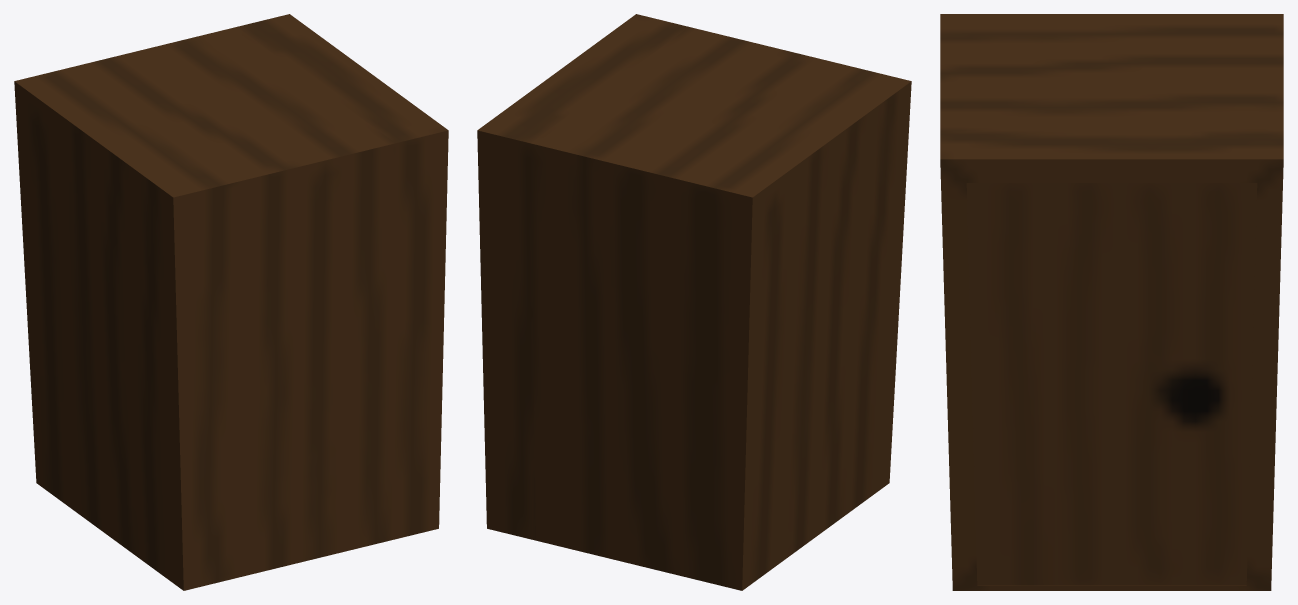
File: Closet.fbx
3 views of the same model, side by side, from view 1: azimuth 30°, elevation 25°; view 2: azimuth 150°, elevation 25°; view 3: azimuth 270°, elevation 25° (orthographic). The views are drawn at different scales.
Visible parts, largest first — view 1: Cube.001, Cube.003; view 2: Cube.001, Cube.003; view 3: Cube.002, Cube.001, Cube.003.
Boxes of the visible parts, <box> form: Cube.001: <box>14,27,395,590</box>; Cube.003: <box>237,14,448,540</box>; Cube.001: <box>530,27,911,590</box>; Cube.003: <box>477,14,688,540</box>; Cube.002: <box>966,183,1257,585</box>; Cube.001: <box>940,14,1283,131</box>; Cube.003: <box>940,131,1283,590</box>.
Bounding box in the file's own units: 216 × 301 × 216.
